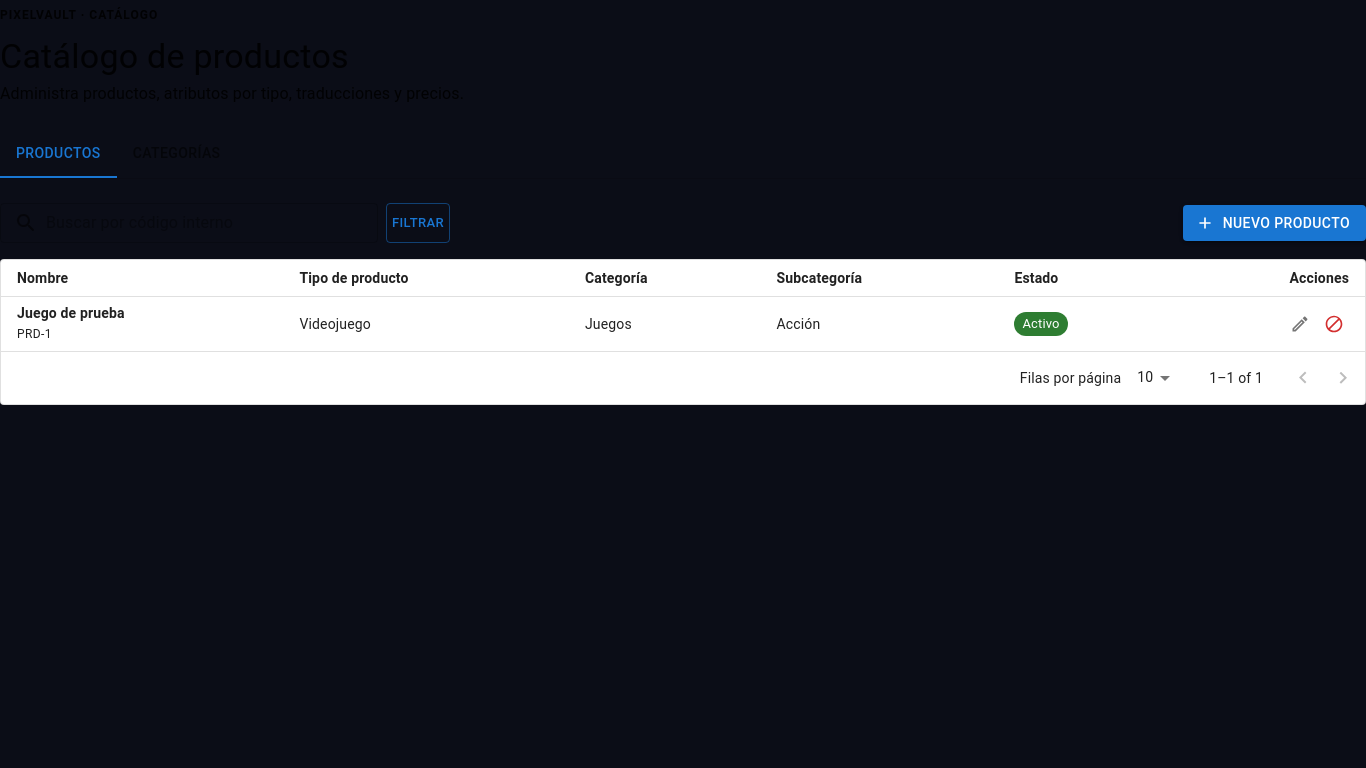
Scenario: CatalogPage › updates existing translations with PUT and creates missing ones with POST
This screenshot has width=1366, height=768.
Expected: the text "Juego de prueba" is shown, [17,305,125,321]
Click the button named "Editar PRD-1" at (1300, 324), box [1285,309,1315,339]
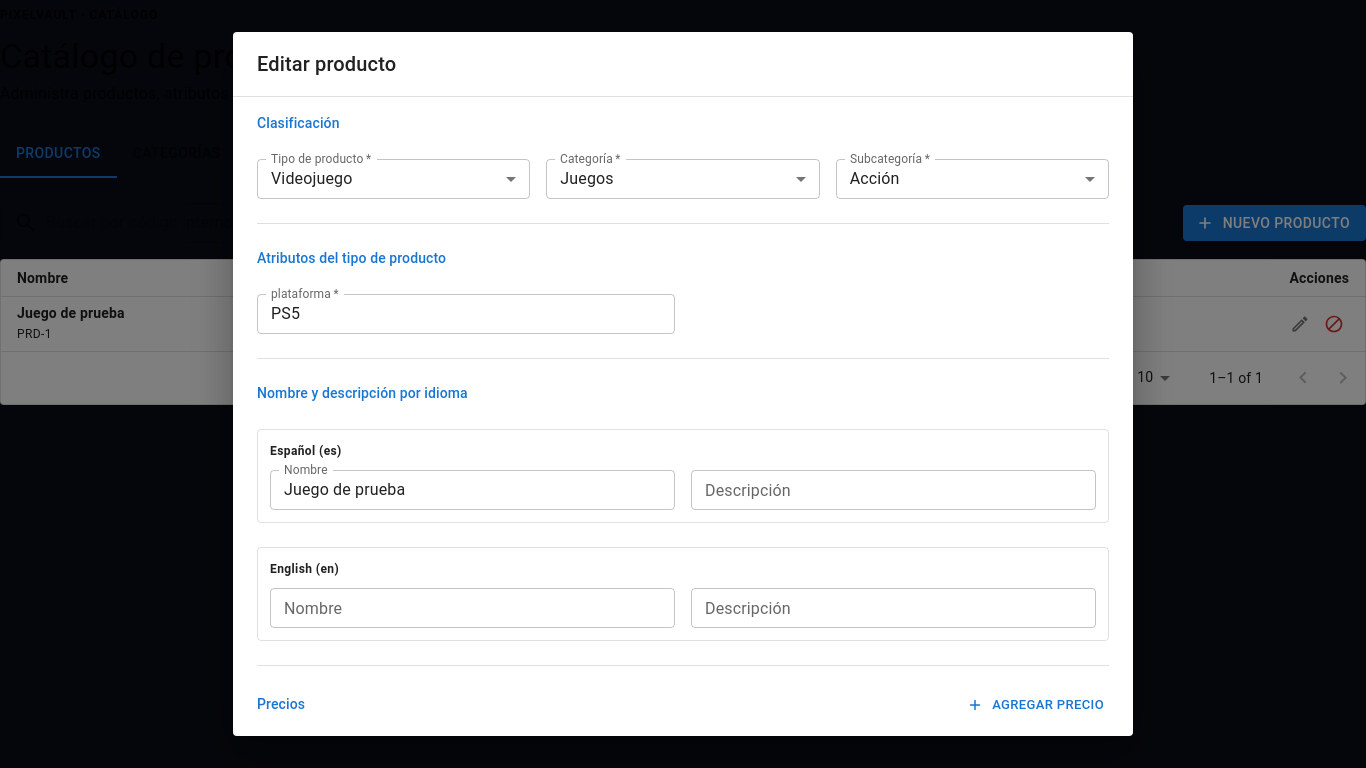
Expected: the field showing "Juego de prueba" below "Español" is shown
Replace the text in the field labelled "Nombre" below "Español" with "Juego renombrado" at (472, 490), box [270,470,675,510]
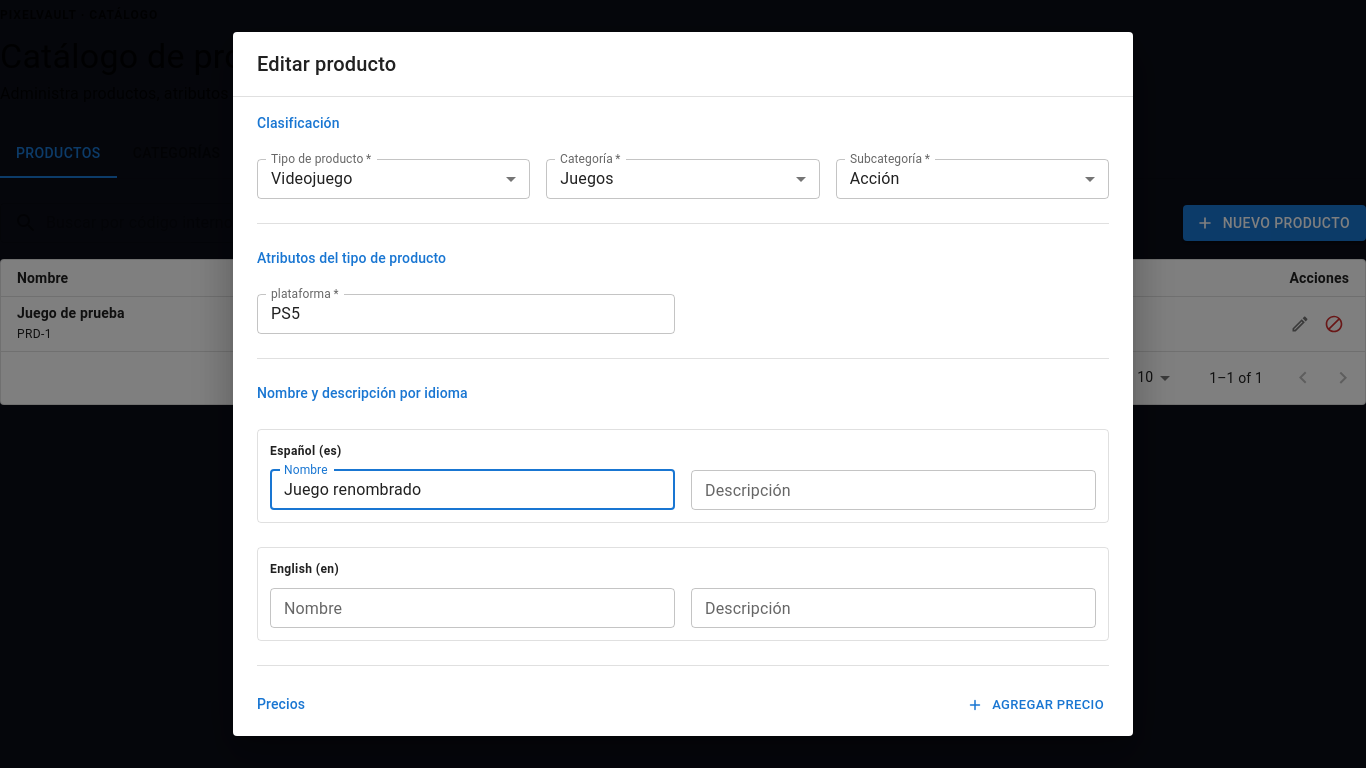
Type "Test game" into the field labelled "Nombre" below "English" at (472, 608), box [270,588,675,628]
(page scrolled)
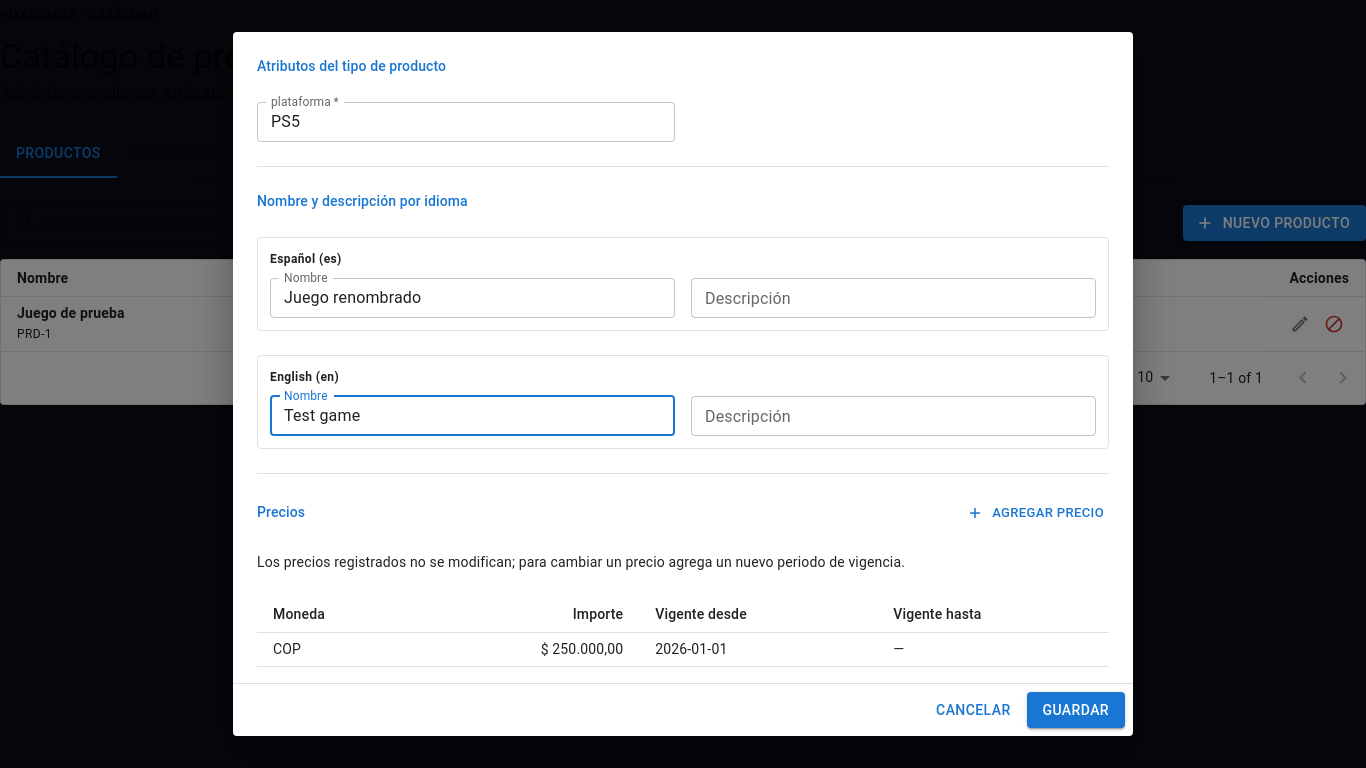
Click the button "Guardar" at (1076, 710), box [1026,692,1125,728]
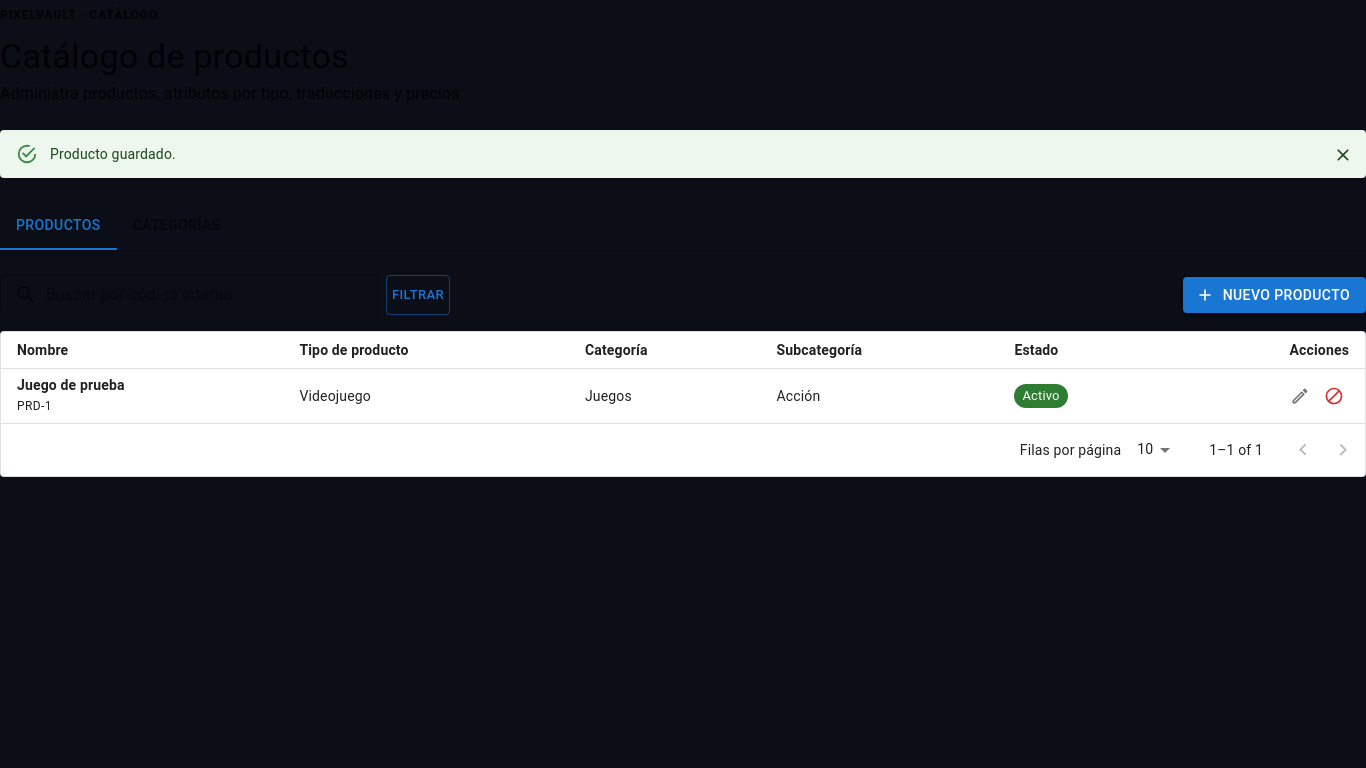
Expected: the dialog is gone
Expected: the text "Producto guardado." is shown, [50,146,176,162]
